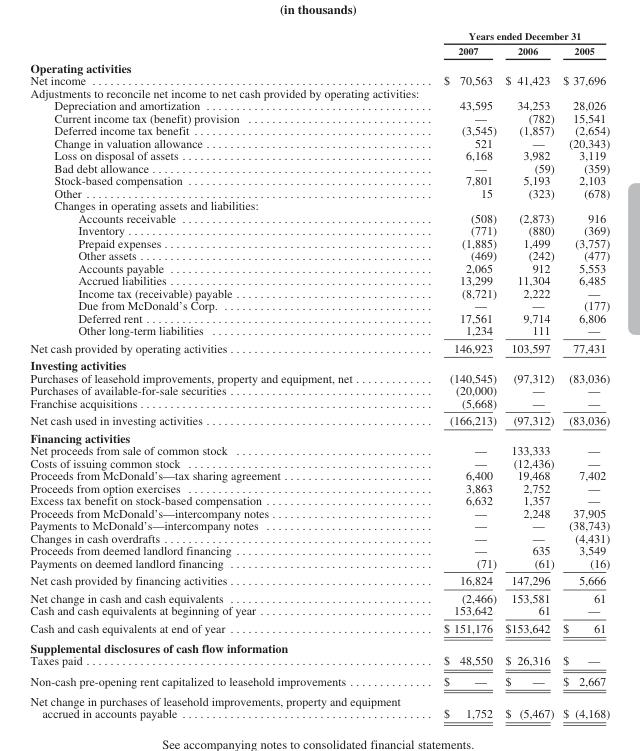table: (29, 29, 609, 719)
table column: (29, 29, 421, 719), (421, 29, 500, 719), (500, 29, 557, 719), (557, 29, 609, 719)
table column header: (29, 29, 609, 58)
table projected row header: (29, 637, 609, 654), (29, 58, 609, 73), (29, 356, 609, 371), (29, 428, 609, 443), (29, 198, 609, 211), (29, 86, 609, 98)
table row: (29, 690, 609, 719), (29, 670, 609, 690), (29, 338, 609, 356), (29, 619, 609, 637), (29, 411, 609, 428), (29, 571, 609, 588), (29, 637, 609, 654), (29, 42, 609, 58), (29, 603, 609, 619), (29, 654, 609, 670), (29, 58, 609, 73), (29, 323, 609, 338), (29, 356, 609, 371), (29, 396, 609, 411), (29, 428, 609, 443), (29, 556, 609, 571), (29, 588, 609, 603), (29, 29, 609, 42), (29, 73, 609, 86), (29, 98, 609, 111), (29, 123, 609, 136), (29, 148, 609, 161), (29, 173, 609, 186), (29, 198, 609, 211), (29, 223, 609, 236), (29, 248, 609, 261), (29, 273, 609, 286), (29, 298, 609, 311), (29, 383, 609, 396), (29, 443, 609, 456), (29, 468, 609, 481), (29, 493, 609, 506), (29, 518, 609, 531), (29, 543, 609, 556), (29, 86, 609, 98), (29, 111, 609, 123), (29, 136, 609, 148), (29, 161, 609, 173), (29, 186, 609, 198), (29, 211, 609, 223), (29, 236, 609, 248), (29, 261, 609, 273), (29, 286, 609, 298), (29, 311, 609, 323), (29, 371, 609, 383), (29, 456, 609, 468), (29, 481, 609, 493), (29, 506, 609, 518), (29, 531, 609, 543)
table spanning cell: (421, 29, 609, 42)
